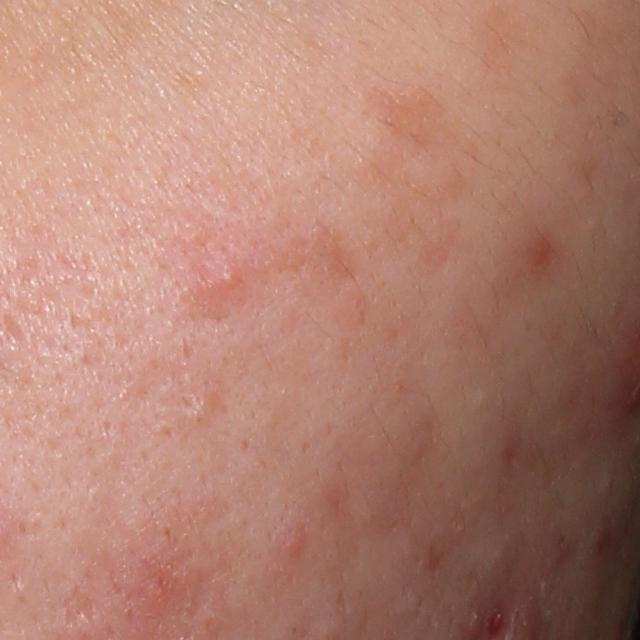atrophic_scar: (65, 587, 97, 627)
comedo: (185, 391, 213, 425)
melasma: (365, 79, 462, 155), (468, 0, 538, 83)
papule: (280, 522, 310, 565)
